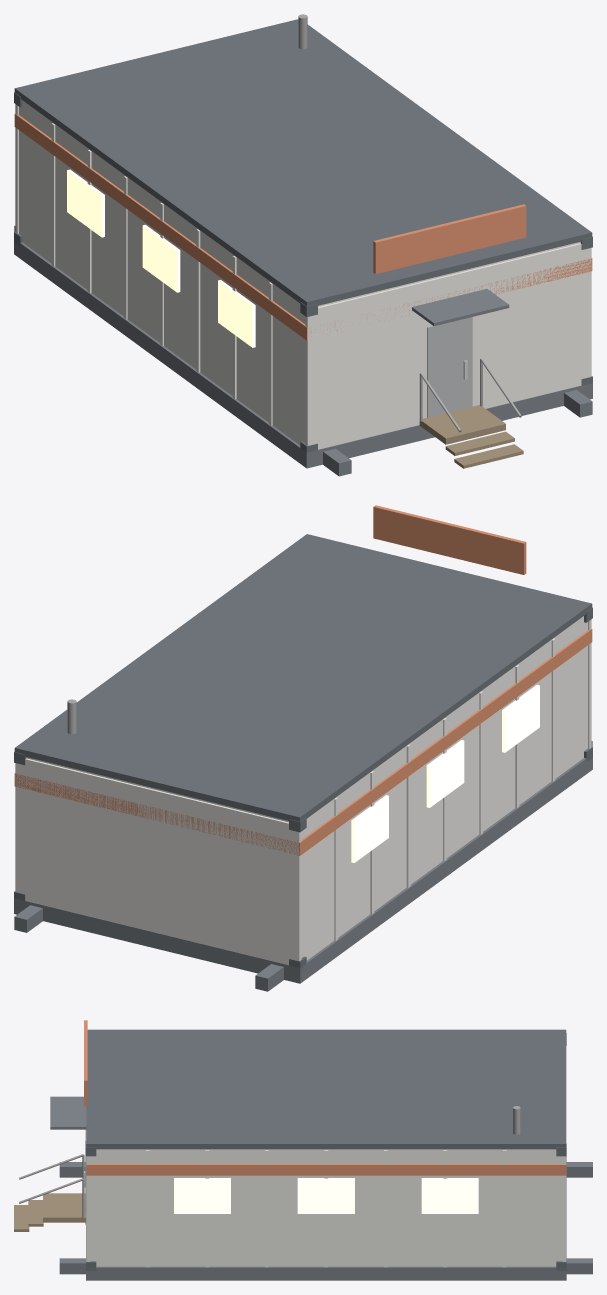
Rendered from canteen.glb.
3 views of the same model, one above another, from view 1: azimuth 30°, elevation 25°; view 2: azimuth 150°, elevation 25°; view 3: azimuth 270°, elevation 25° (orthographic). The views are drawn at different scales.
Parts seen in each view (by area): view 1: object 12, object 11, object 1, object 2, object 13, object 33, object 20, inst (×2), object 21, object 26, object 15, object 14 (+4 smaller); view 2: object 12, object 3, object 1, object 2, object 13, object 33, object 15, object 14, object 16, inst, object 6, object 10; view 3: object 12, object 1, object 2, object 13, object 17, object 18, object 19, object 21, inst (×2), object 26, object 29, object 28 (+9 smaller).
Boxes of the visible parts, x1,y1,x2,y2 form: object 12: (14,19,592,306); object 11: (305,243,591,449); object 1: (19,101,580,445); object 2: (14,239,592,468); object 13: (14,113,592,340); object 33: (373,204,526,273); object 20: (427,317,472,417); inst (×2): (14,92,592,468); object 21: (419,405,505,444); object 26: (412,289,509,326); object 15: (142,224,180,292); object 14: (67,169,104,237); object 12: (14,534,592,821); object 3: (15,758,301,964); object 1: (26,616,587,960); object 2: (14,755,592,983); object 13: (14,629,592,855); object 33: (373,505,526,574); object 15: (426,740,464,807); object 14: (351,795,388,862); object 16: (502,685,539,752); inst: (14,607,592,971); object 6: (406,744,410,887); object 10: (551,638,555,781); object 12: (86,1029,566,1149); object 1: (90,1149,562,1266); object 2: (86,1157,566,1280); object 13: (86,1164,566,1175); object 17: (421,1178,478,1213); object 18: (297,1178,354,1213); object 19: (174,1178,230,1213); object 21: (43,1193,85,1222); inst (×2): (14,1033,566,1270); object 26: (50,1096,86,1129); object 29: (59,1258,592,1274); object 28: (59,1162,592,1177).
Size of the model in its own units: 5.72 by 4.01 by 12.16.
